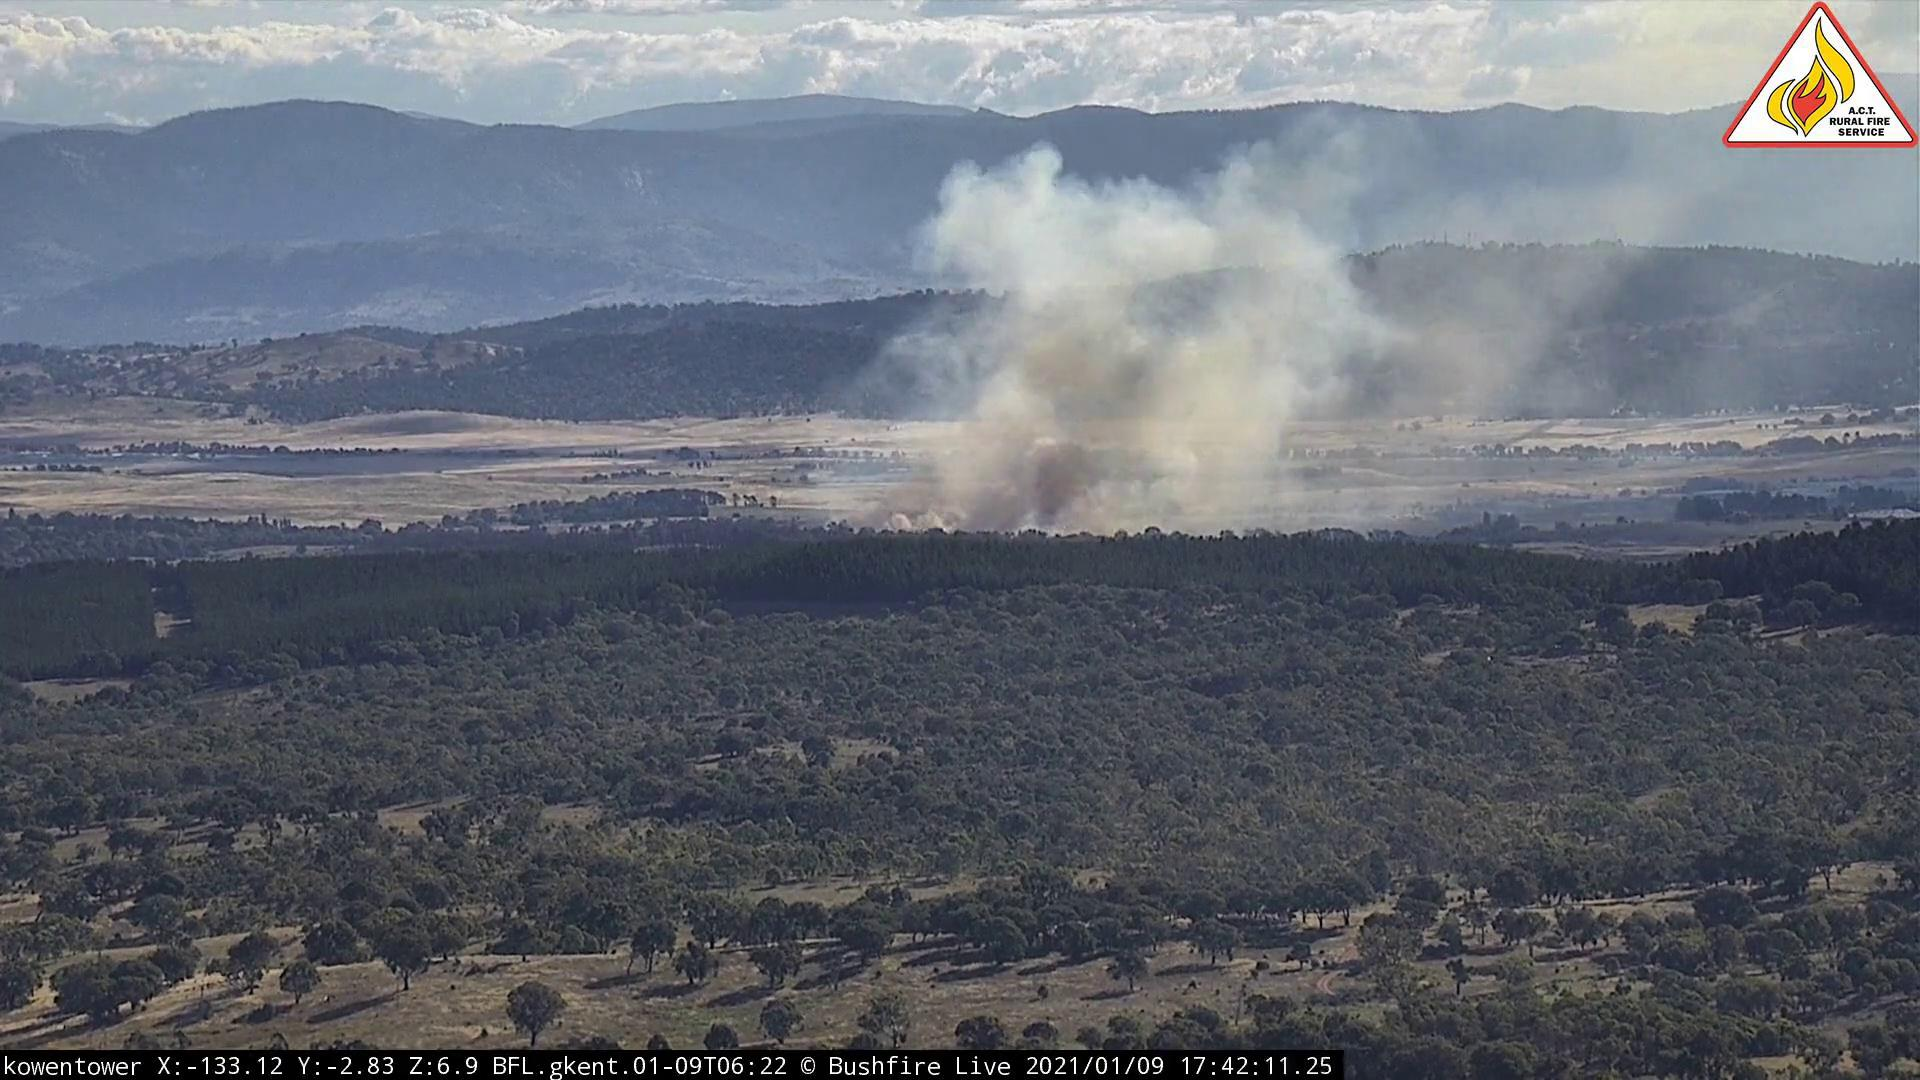Smoke: (760, 112, 1716, 542)
